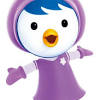Petty: (6, 1, 96, 100)
